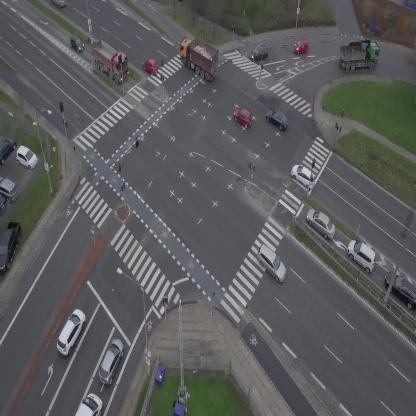car: (51, 307, 90, 358), (251, 242, 293, 284), (94, 336, 128, 387), (342, 236, 383, 275), (301, 205, 341, 242), (288, 160, 320, 191), (263, 107, 292, 132), (230, 106, 256, 130), (65, 33, 86, 55), (140, 56, 162, 77), (250, 45, 269, 60), (294, 39, 308, 54), (51, 0, 65, 8)
lorry: (170, 32, 227, 83), (83, 35, 137, 86), (338, 38, 382, 71), (75, 393, 102, 416)
